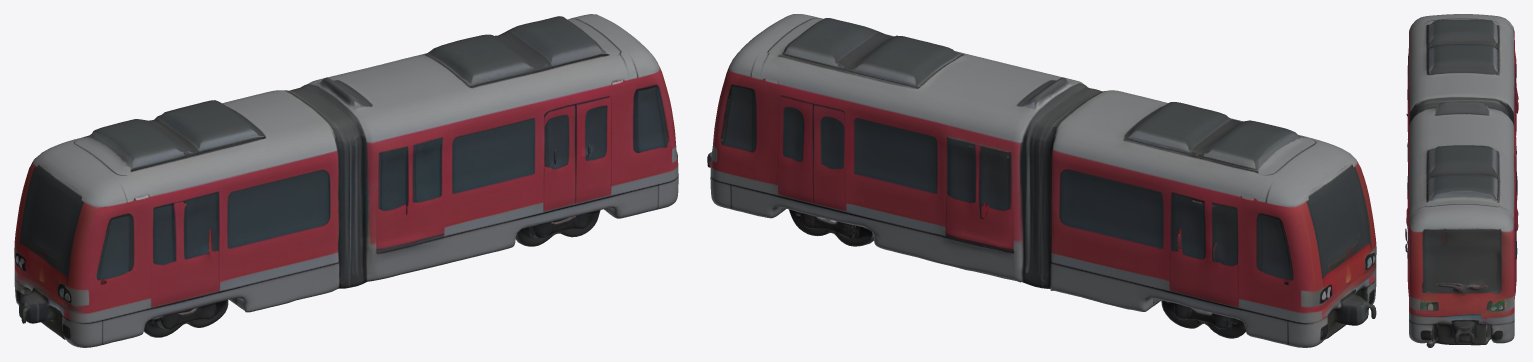
The model's file is poezd3.fbx.
3 renders of one model, left to right at view 1: azimuth 30°, elevation 25°; view 2: azimuth 150°, elevation 25°; view 3: azimuth 270°, elevation 25°, orthographic. The views are drawn at different scales.
Parts seen in each view (by area): view 1: tripo_node_c5aa3f69; view 2: tripo_node_c5aa3f69; view 3: tripo_node_c5aa3f69.
Part boxes in pixels (x1=…): tripo_node_c5aa3f69: x1=14, y1=14, x2=678, y2=347; tripo_node_c5aa3f69: x1=707, y1=14, x2=1376, y2=347; tripo_node_c5aa3f69: x1=1405, y1=14, x2=1518, y2=347.
Size of the model in its own units: 99.98 by 27.13 by 19.74.
1 material, 1 textured.
